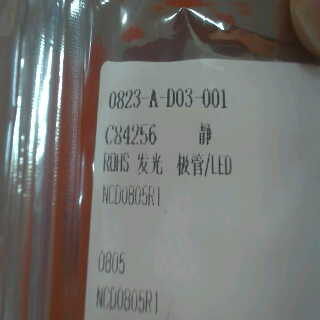LED: (137, 149, 238, 181)
